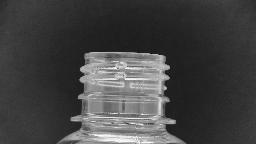No Cap: (65, 46, 179, 128)
